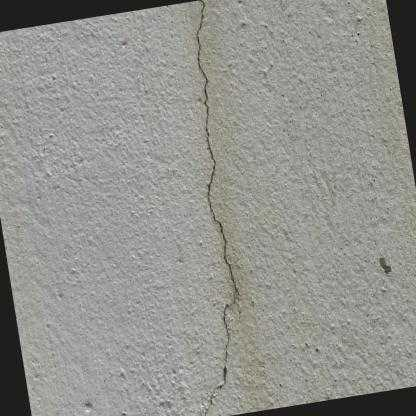crack: (195, 0, 237, 416)
